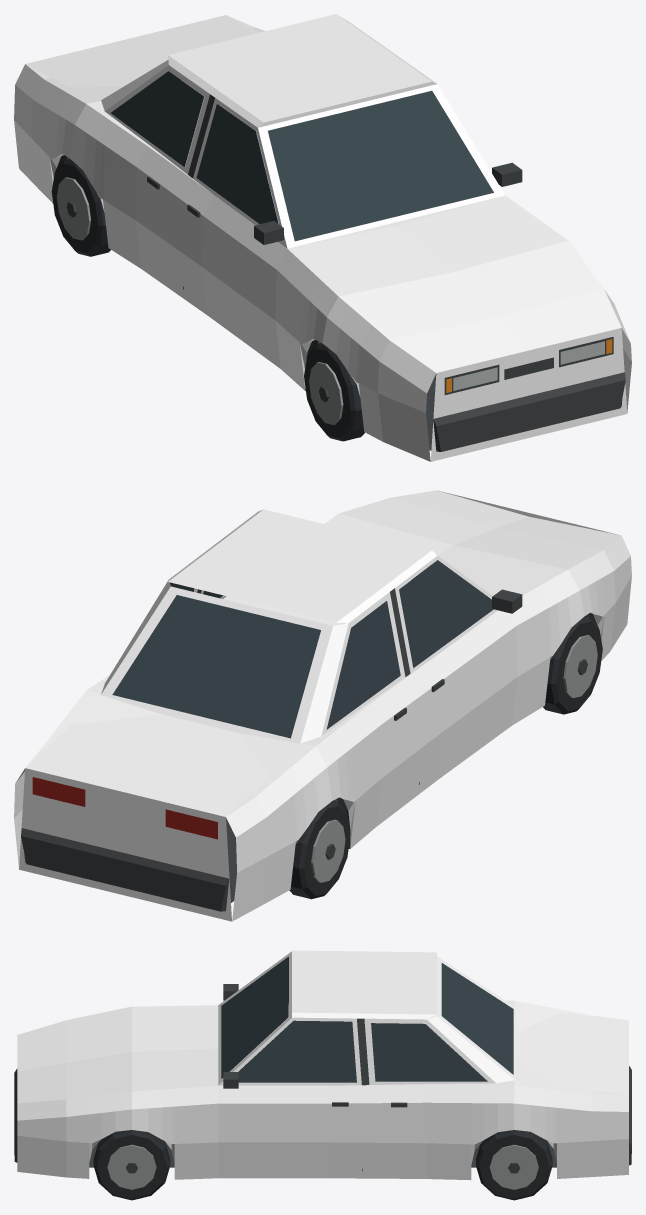
Rendered from whitlock_bootleg.glb.
3 renders of one model, top to bottom at view 1: azimuth 30°, elevation 25°; view 2: azimuth 150°, elevation 25°; view 3: azimuth 270°, elevation 25°, orthographic. The views are drawn at different scales.
Visible parts, largest first — view 1: whitlock_bootleg; view 2: whitlock_bootleg; view 3: whitlock_bootleg.
Part boxes in pixels (bbox=[...]): whitlock_bootleg: bbox=[14, 14, 631, 461]; whitlock_bootleg: bbox=[14, 490, 631, 921]; whitlock_bootleg: bbox=[14, 950, 631, 1200].
Bounding box in the file's own units: 1.81 × 1.51 × 4.88.
8 materials, 1 textured.
